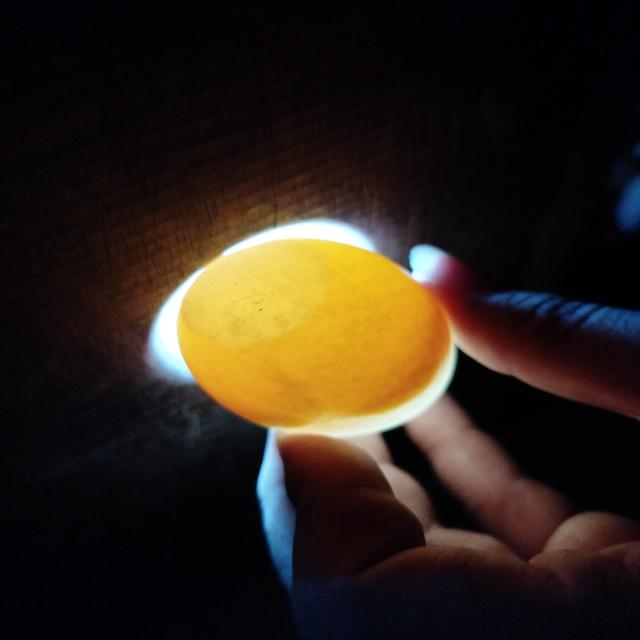Camara de Ar: (182, 239, 318, 342)
Gema Quebrada: (334, 293, 452, 417)
